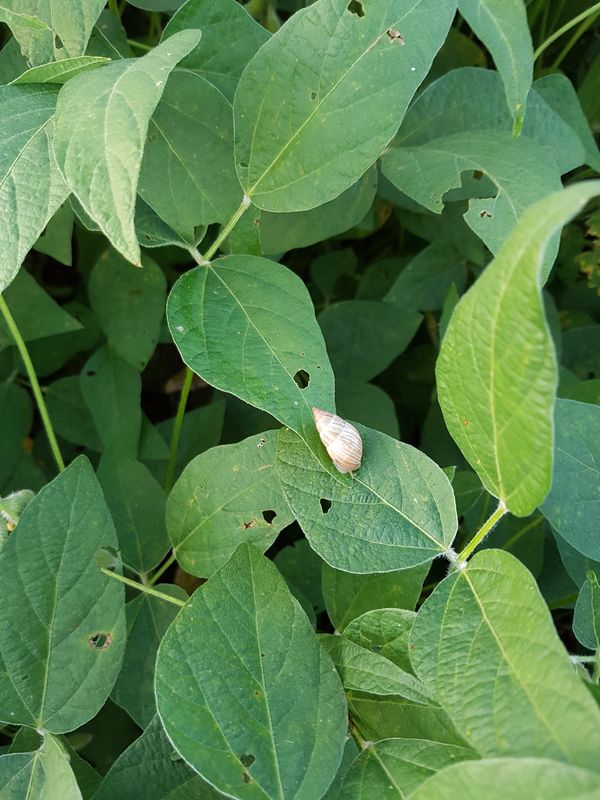Gastropoda: (297, 397, 379, 485)
